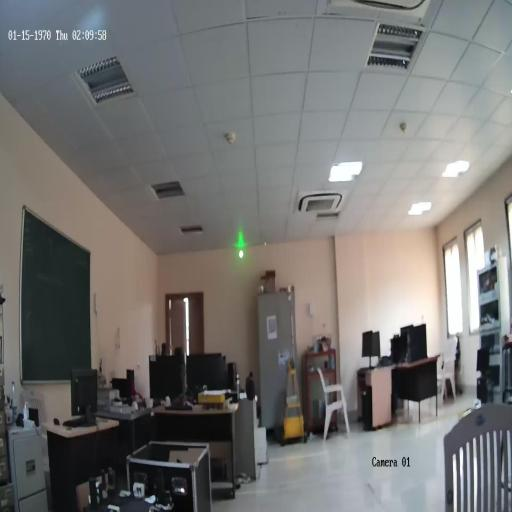laser: (238, 248, 244, 260)
